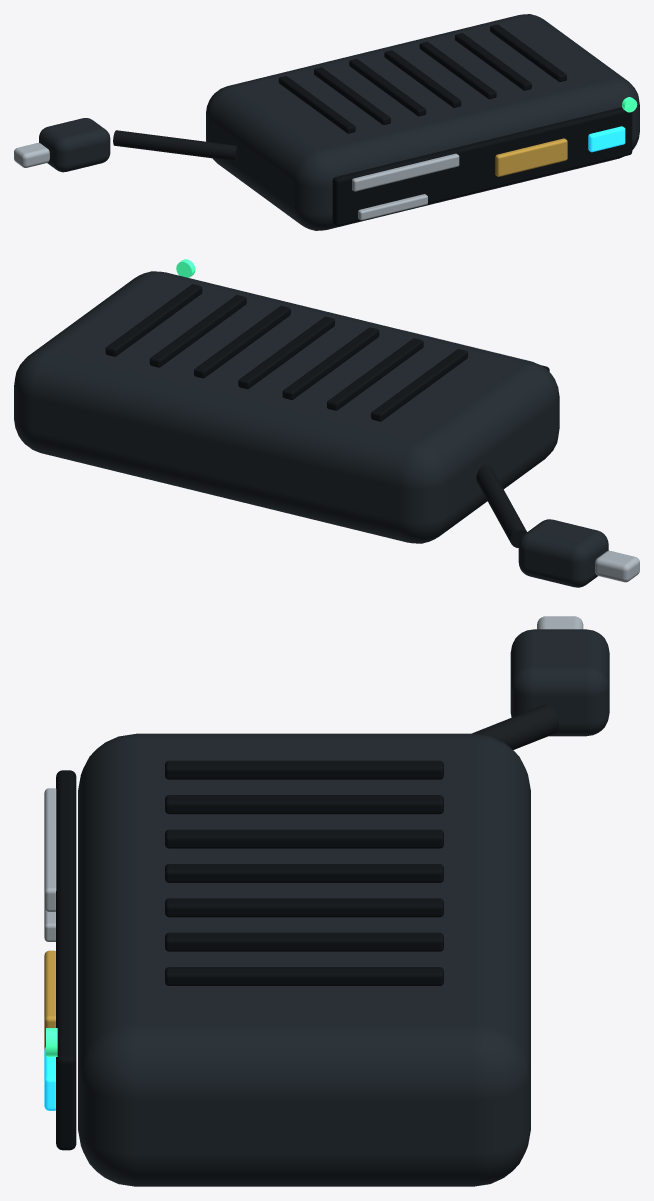
Rendered from memory-card-reader.glb.
The picture shows the model from 3 angles, top to bottom: view 1: azimuth 30°, elevation 25°; view 2: azimuth 150°, elevation 25°; view 3: azimuth 270°, elevation 25°; orthographic projection. The views are drawn at different scales.
Parts seen in each view (by area): view 1: Card reader enclosure, Reader front panel, Top groove (×7), USB cable grip, Premium multi-format memory card reader, CompactFlash slot, SD card slot, microSD slot, USB-C port; view 2: Card reader enclosure, Top groove (×7), USB cable grip, Premium multi-format memory card reader; view 3: Card reader enclosure, Top groove (×7), USB cable grip, Reader front panel, Premium multi-format memory card reader, SD card slot, CompactFlash slot.
Boxes of the visible parts, left/top/right/bottom form: Card reader enclosure: left=206, top=14, right=639, bottom=230; Reader front panel: left=332, top=107, right=632, bottom=226; Top groove (×7): left=278, top=24, right=566, bottom=133; USB cable grip: left=39, top=118, right=110, bottom=172; Premium multi-format memory card reader: left=14, top=130, right=237, bottom=167; CompactFlash slot: left=495, top=138, right=567, bottom=176; SD card slot: left=352, top=153, right=459, bottom=191; microSD slot: left=358, top=194, right=427, bottom=220; USB-C port: left=588, top=126, right=625, bottom=152; Card reader enclosure: left=14, top=271, right=559, bottom=543; Top groove (×7): left=105, top=284, right=467, bottom=421; USB cable grip: left=518, top=519, right=608, bottom=587; Premium multi-format memory card reader: left=476, top=464, right=639, bottom=582; Card reader enclosure: left=78, top=733, right=530, bottom=1186; Top groove (×7): left=165, top=760, right=443, bottom=985; USB cable grip: left=510, top=629, right=609, bottom=736; Reader front panel: left=56, top=770, right=76, bottom=1150; Premium multi-format memory card reader: left=472, top=616, right=583, bottom=749; SD card slot: left=44, top=788, right=56, bottom=911; CompactFlash slot: left=44, top=950, right=55, bottom=1049.
Size of the model in its own units: 2.04 by 0.3275 by 0.9725.
